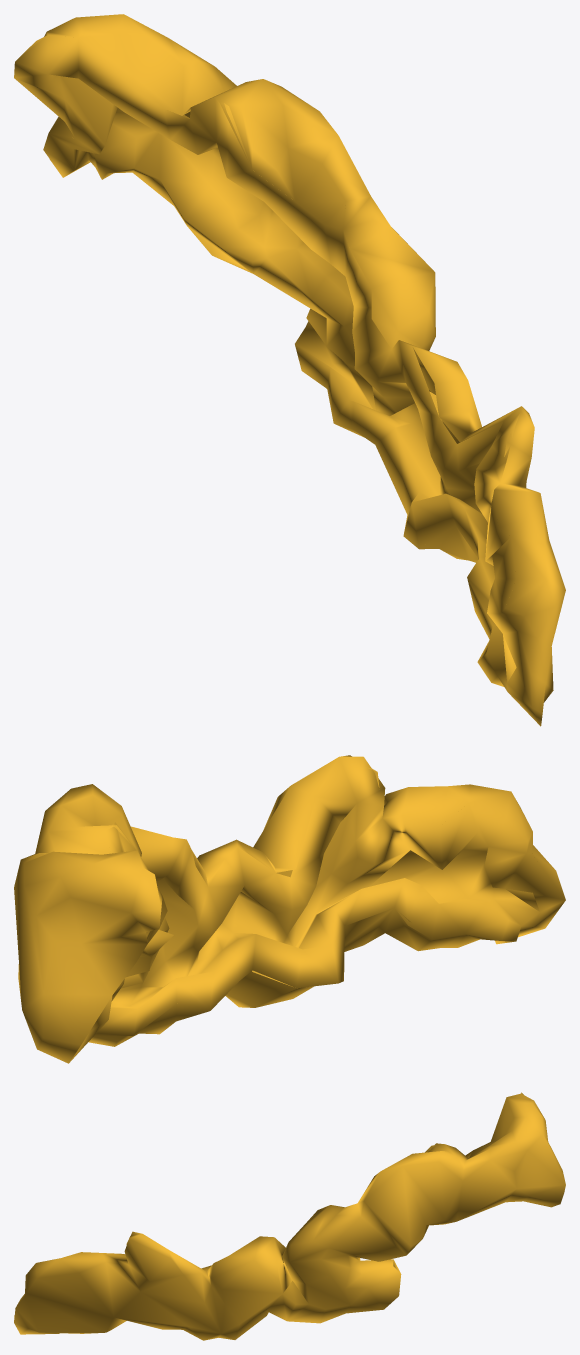
The model's file is nervoso-middle-temporal-gyrus-l.glb.
The picture shows the model from 3 angles, top to bottom: view 1: azimuth 30°, elevation 25°; view 2: azimuth 150°, elevation 25°; view 3: azimuth 270°, elevation 25°; orthographic projection. The views are drawn at different scales.
Parts seen in each view (by area): view 1: Middle temporal gyrus.l; view 2: Middle temporal gyrus.l; view 3: Middle temporal gyrus.l.
Part boxes in pixels (x1=…): Middle temporal gyrus.l: x1=14, y1=14, x2=565, y2=726; Middle temporal gyrus.l: x1=14, y1=755, x2=565, y2=1063; Middle temporal gyrus.l: x1=14, y1=1092, x2=565, y2=1340.
Bounding box in the file's own units: 0.0281 × 0.0453 × 0.1004.
